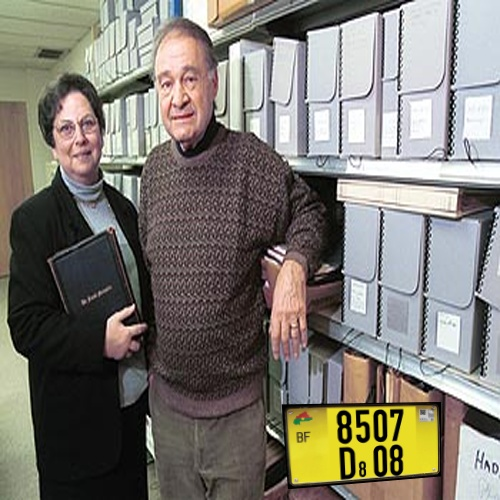plate: (275, 391, 454, 492)
